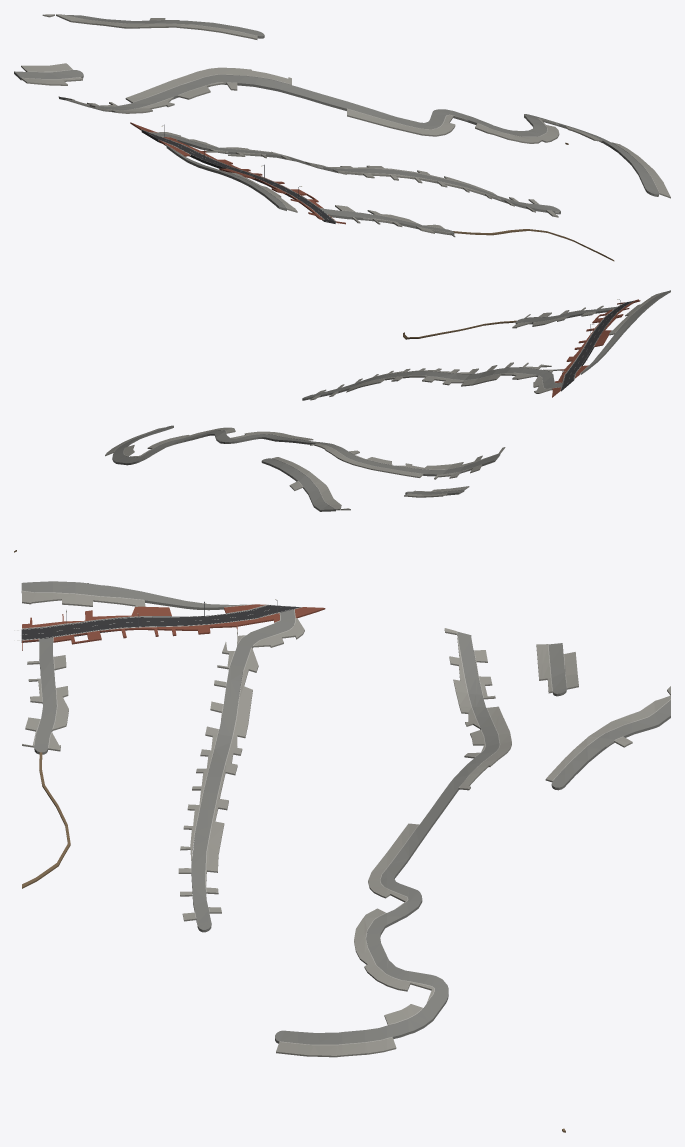
3 renders of one model, top to bottom at view 1: azimuth 30°, elevation 25°; view 2: azimuth 150°, elevation 25°; view 3: azimuth 270°, elevation 25°, orthographic. The views are drawn at different scales.
Size of the model in its own units: 294 by 136 by 295.
